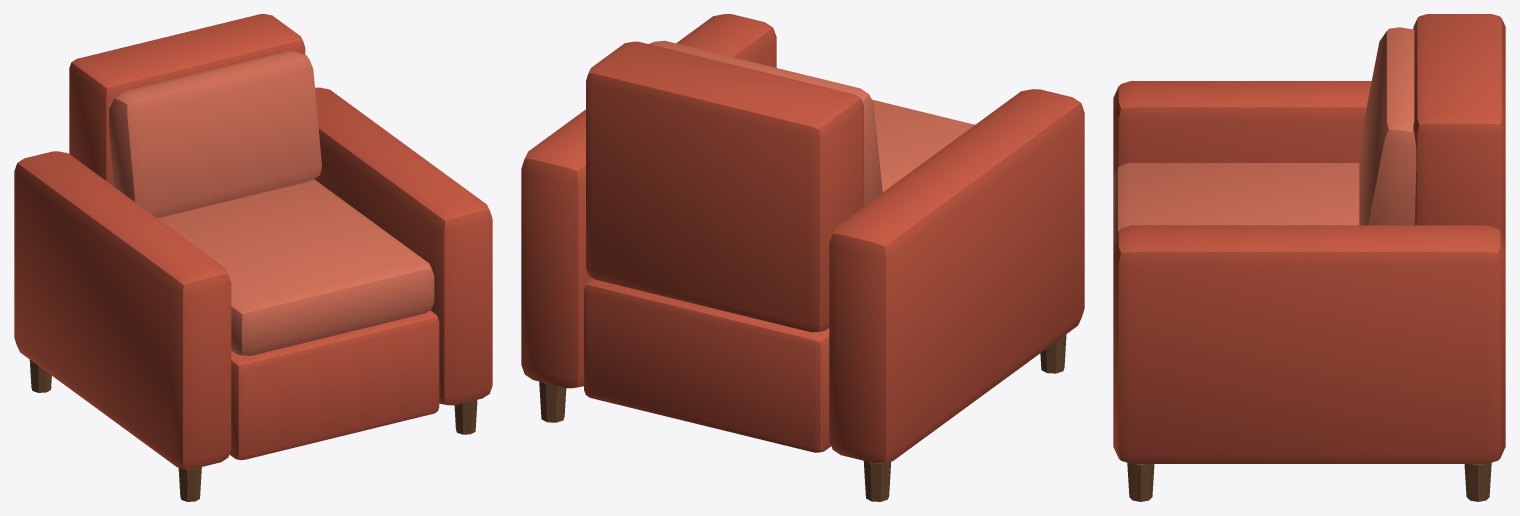
The model's file is armchair.glb.
3 renders of one model, left to right at view 1: azimuth 30°, elevation 25°; view 2: azimuth 150°, elevation 25°; view 3: azimuth 270°, elevation 25°, orthographic. The views are drawn at different scales.
Visible parts, largest first — view 1: body; view 2: body; view 3: body.
Part boxes in pixels (left/top/right/bottom): body: left=14, top=14, right=492, bottom=501; body: left=521, top=14, right=1084, bottom=501; body: left=1113, top=14, right=1505, bottom=501.
Size of the model in its own units: 90 by 85 by 85.
